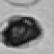correct: (3, 12, 42, 49)
